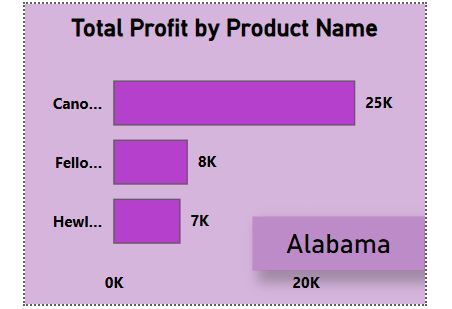

Layout of this report page (visuals, bound fields, positions):
{"tool":"powerbi","page":{"name":"tooltip","canvas":[320,240],"ordinal":5},"visuals":[{"type":"clusteredBarChart","fields":{"Category":["Sample - Superstore.Product Name"],"Y":["Sample - Superstore.Total Profit"]},"box":[0,0,320,240],"z":0},{"type":"card","fields":{"Values":["Min(Sample - Superstore.State)"]},"box":[182,170,138,43],"z":1}]}

Visuals, with their boxes in screenshot pixels (x1, y1, x2, y2):
clusteredBarChart - Sample - Superstore.Product Name x Sample - Superstore.Total Profit: (left=18, top=0, right=425, bottom=305)
card - Min(Sample - Superstore.State): (left=249, top=216, right=425, bottom=271)
